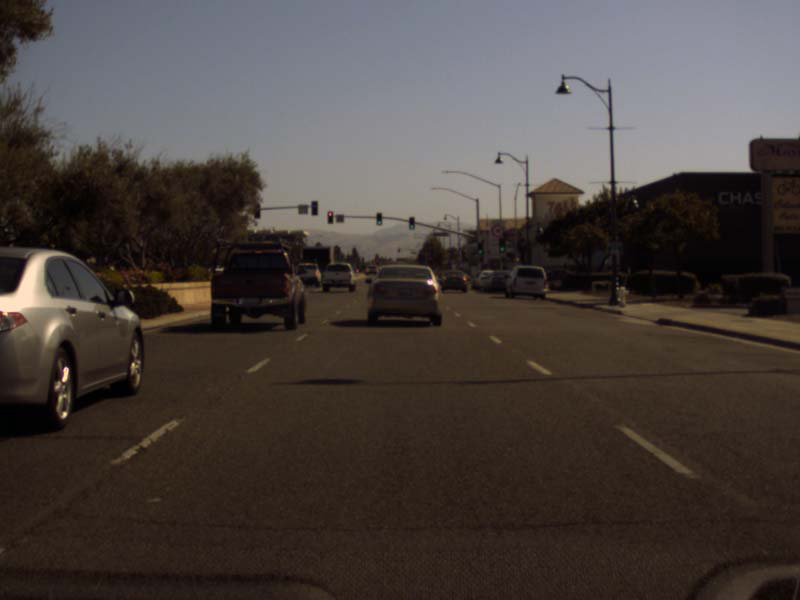Green: (499, 238, 505, 252), (408, 216, 414, 229), (376, 212, 382, 225), (477, 243, 482, 254)
Red: (327, 211, 333, 223)
